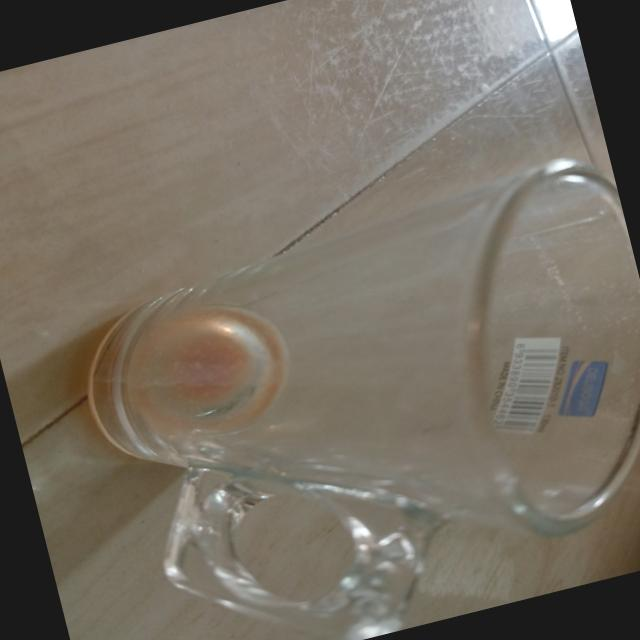glass-VX4N: (59, 147, 640, 640)
